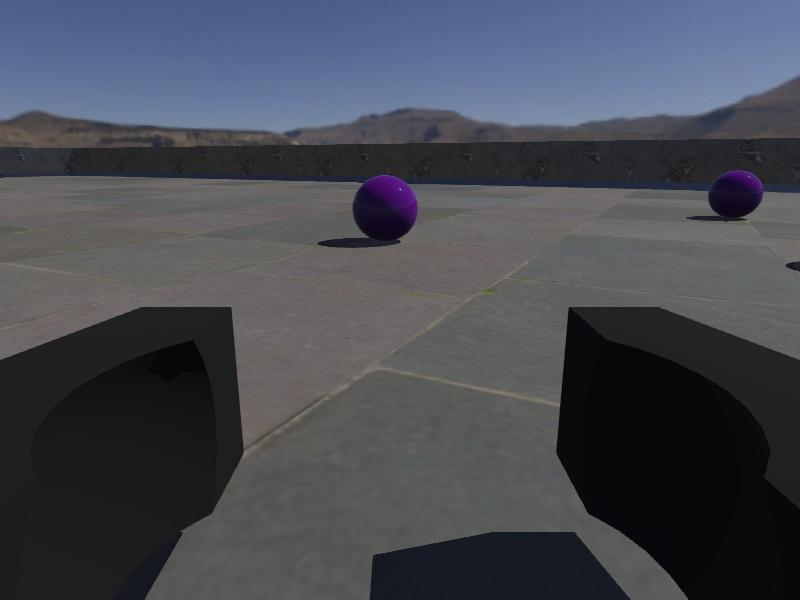violet ball: (353, 175, 418, 242), (709, 169, 763, 221)
